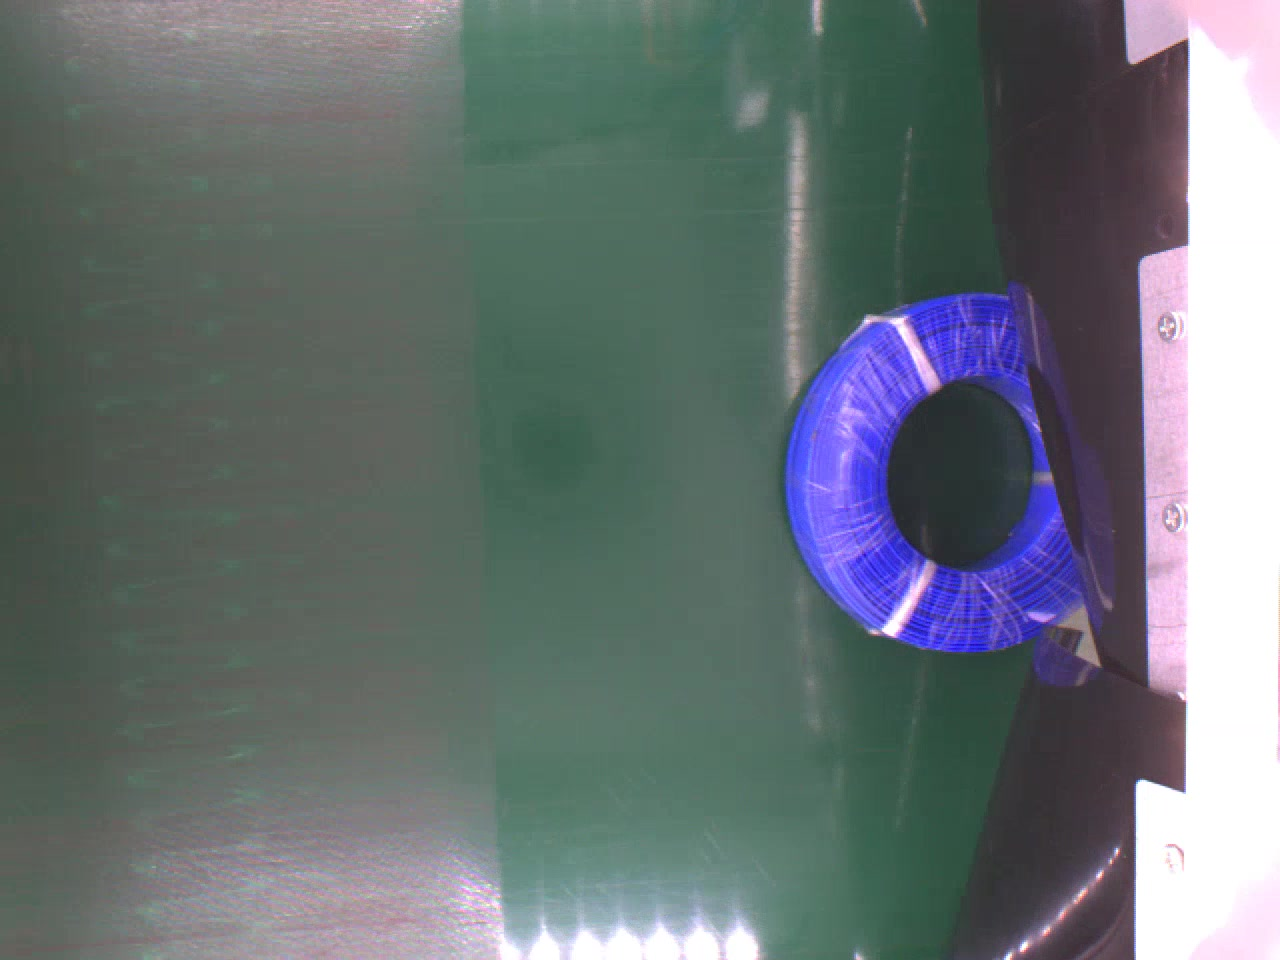blue: (784, 293, 1083, 653)
